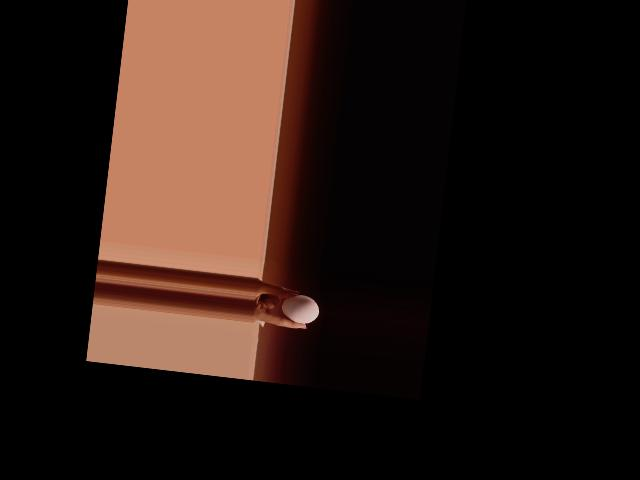egg: (279, 292, 320, 325)
